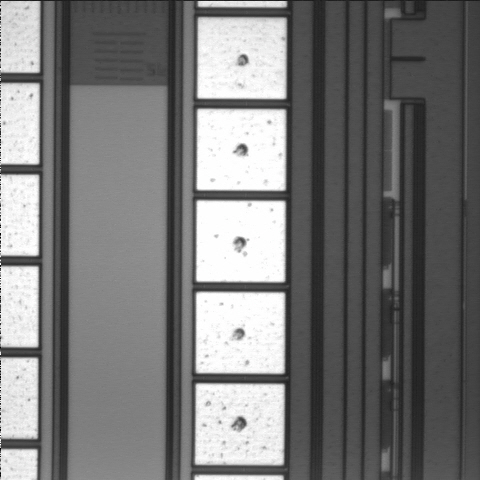pad: (197, 17, 286, 99), (197, 109, 286, 191), (196, 200, 285, 282), (196, 292, 285, 374), (195, 384, 284, 465)
